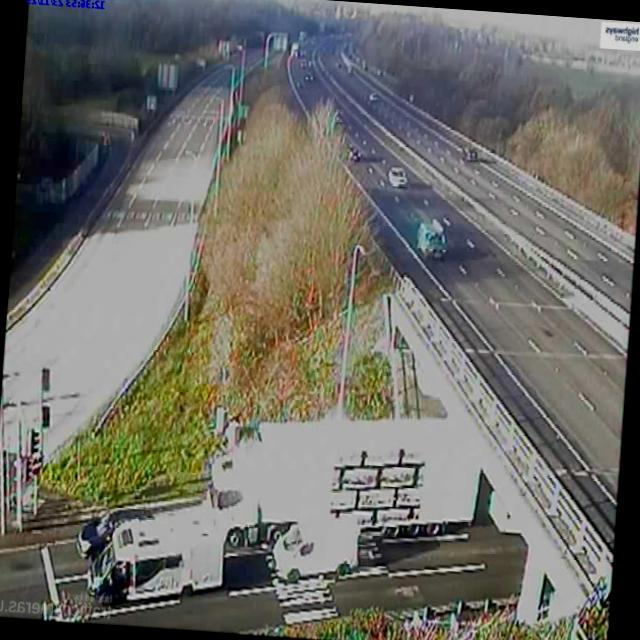foliage: (203, 84, 371, 421), (416, 64, 640, 235)
